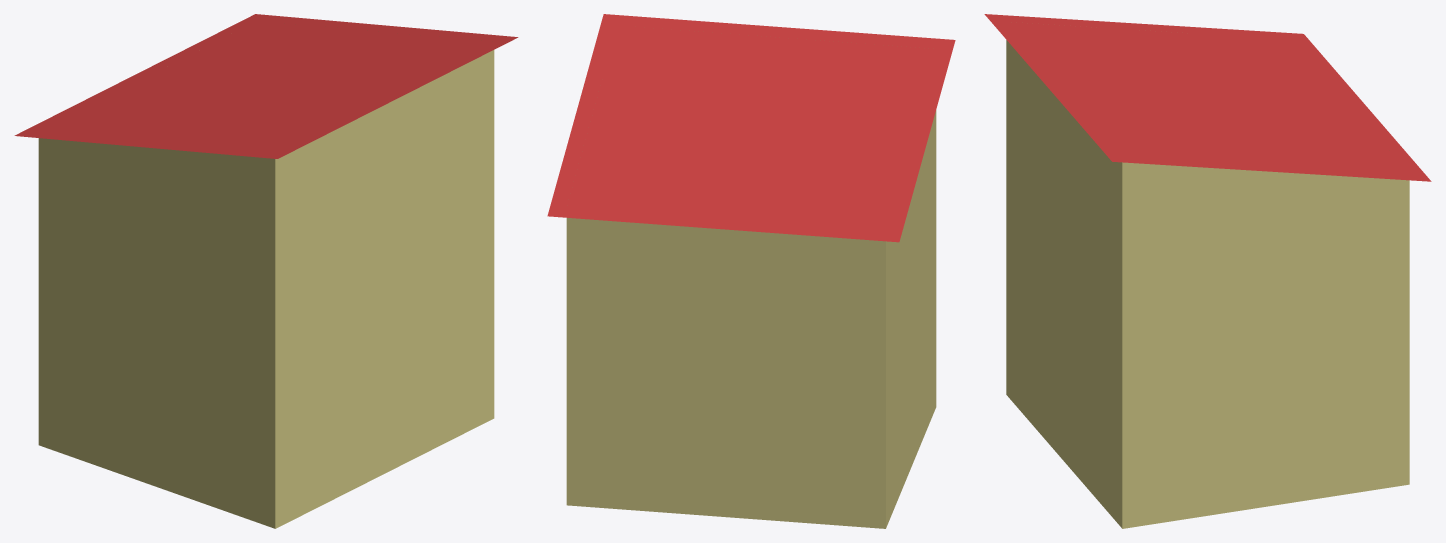
3 views of the same model, side by side, from view 1: azimuth 30°, elevation 25°; view 2: azimuth 150°, elevation 25°; view 3: azimuth 270°, elevation 25° (orthographic). The views are drawn at different scales.
Size of the model in its own units: 6.75 by 6.47 by 6.01.
